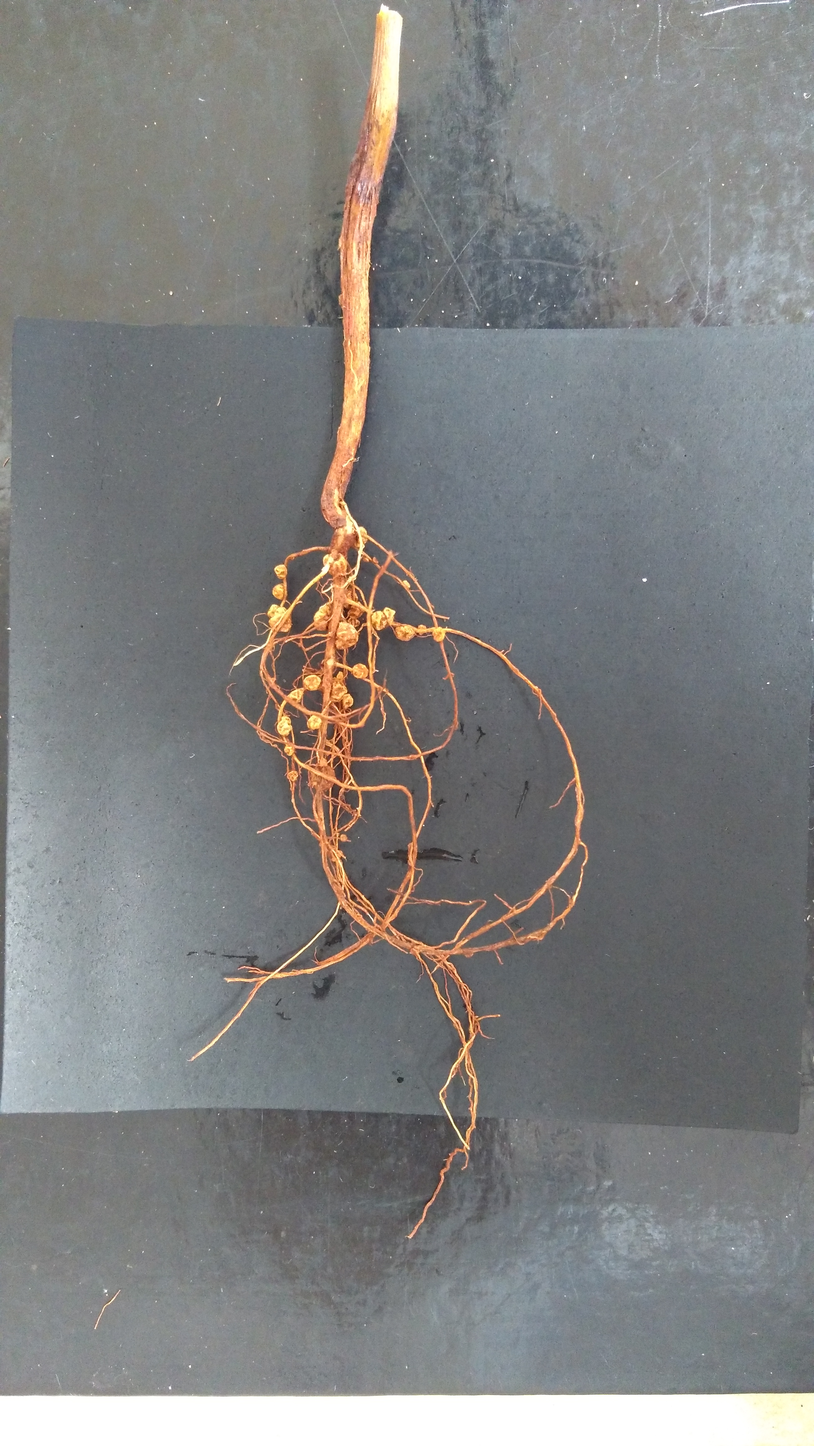nodule: (334, 619, 360, 651), (310, 764, 337, 792), (311, 601, 334, 632), (321, 551, 348, 577), (267, 606, 293, 633), (329, 676, 349, 704), (370, 609, 389, 632), (275, 714, 294, 737), (394, 624, 416, 642), (346, 601, 365, 620), (351, 662, 370, 681), (354, 525, 369, 549), (302, 674, 322, 692), (381, 605, 397, 627), (271, 563, 290, 581), (271, 582, 289, 601), (305, 714, 323, 731), (340, 692, 355, 710), (265, 603, 281, 619), (431, 626, 446, 643), (288, 688, 303, 703), (330, 848, 344, 863), (286, 769, 299, 783), (346, 617, 361, 628), (317, 755, 329, 768), (283, 745, 295, 757), (417, 623, 428, 636), (402, 578, 411, 589), (339, 834, 349, 843), (336, 670, 344, 680), (371, 556, 379, 565), (362, 556, 370, 563)
